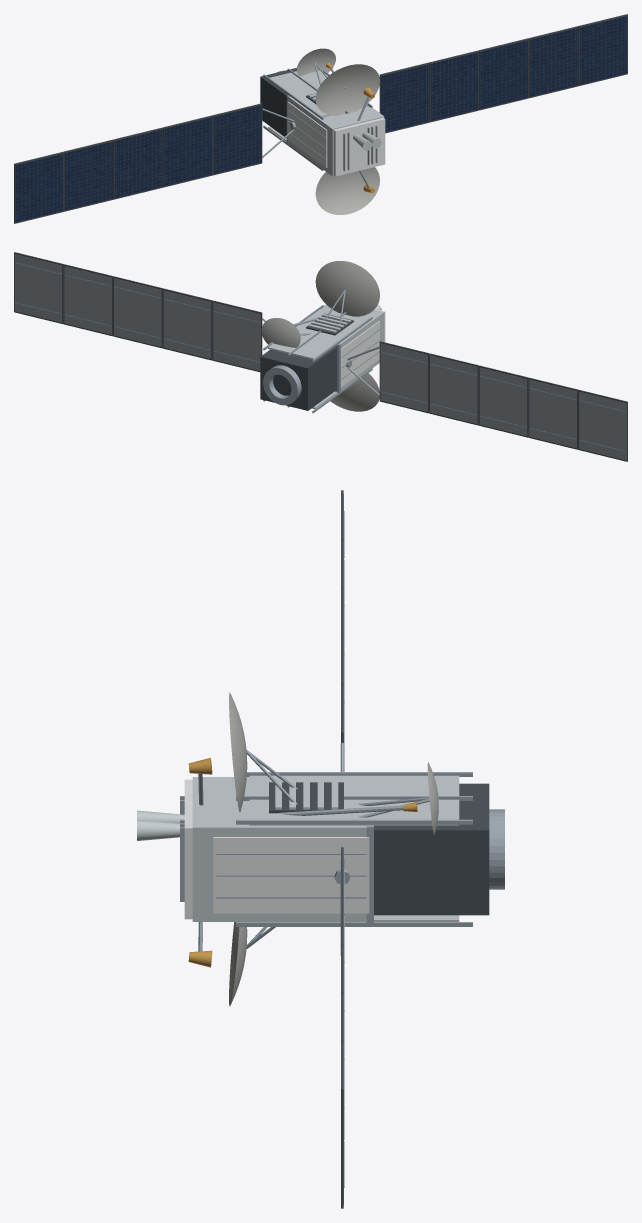
The model's file is ref-a2100axs-32708.glb.
3 renders of one model, top to bottom at view 1: azimuth 30°, elevation 25°; view 2: azimuth 150°, elevation 25°; view 3: azimuth 270°, elevation 25°, orthographic. The views are drawn at different scales.
Visible parts, largest first — view 1: Solar cell panel (×10), Communications reflector (×3), Solar panel frame (×10), Earth-facing deck, Radiator face, Payload module, Service module, Equipment bay sidewall; view 2: Rear array substrate (×10), Communications reflector (×3), Solar panel frame (×10), Service module, Equipment bay sidewall, Radiator face, Launch adapter ring, Payload module, Louvre surround; view 3: Service module, Radiator face, Payload module, Equipment bay sidewall, Equipment bay longeron (×2), Communications reflector (×2), Louvre surround, Launch adapter ring, Earth-facing deck.
Part boxes in pixels (<box>): Solar cell panel (×10): <box>15,16,627,222</box>; Communications reflector (×3): <box>296,48,379,214</box>; Solar panel frame (×10): <box>14,14,627,223</box>; Earth-facing deck: <box>333,117,385,176</box>; Radiator face: <box>287,101,327,167</box>; Payload module: <box>289,97,384,176</box>; Service module: <box>260,68,296,136</box>; Equipment bay sidewall: <box>269,70,367,117</box>; Rear array substrate (×10): <box>14,254,626,460</box>; Communications reflector (×3): <box>261,261,379,411</box>; Solar panel frame (×10): <box>14,252,627,461</box>; Service module: <box>260,347,336,410</box>; Equipment bay sidewall: <box>268,309,366,359</box>; Radiator face: <box>340,321,379,387</box>; Launch adapter ring: <box>263,365,301,405</box>; Payload module: <box>321,304,384,390</box>; Louvre surround: <box>306,313,353,335</box>; Service module: <box>374,783,489,915</box>; Radiator face: <box>213,837,369,913</box>; Payload module: <box>192,777,366,921</box>; Equipment bay sidewall: <box>249,775,459,825</box>; Equipment bay longeron (×2): <box>236,819,472,926</box>; Communications reflector (×2): <box>229,692,247,1006</box>; Louvre surround: <box>269,782,343,813</box>; Launch adapter ring: <box>489,809,504,889</box>; Earth-facing deck: <box>184,779,192,919</box>.
Size of the model in its own units: 25.98 by 6.02 by 6.75.
Materials: 8 (1 with a texture image).
